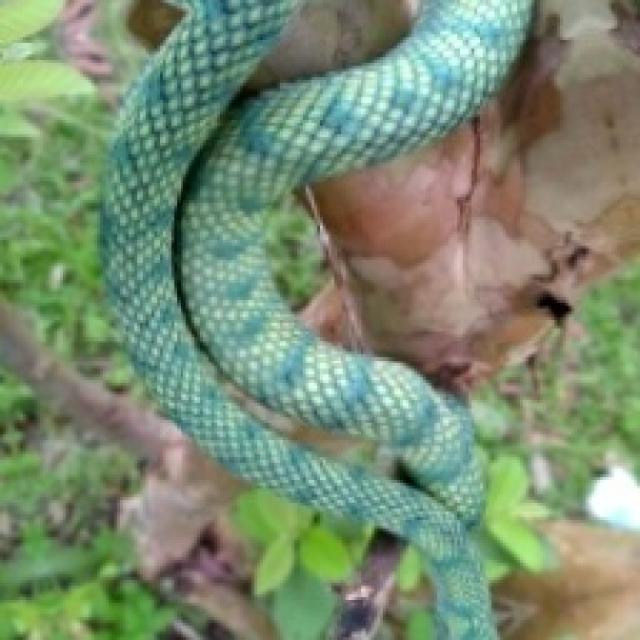north ph temple pitviper: (103, 0, 529, 637)
